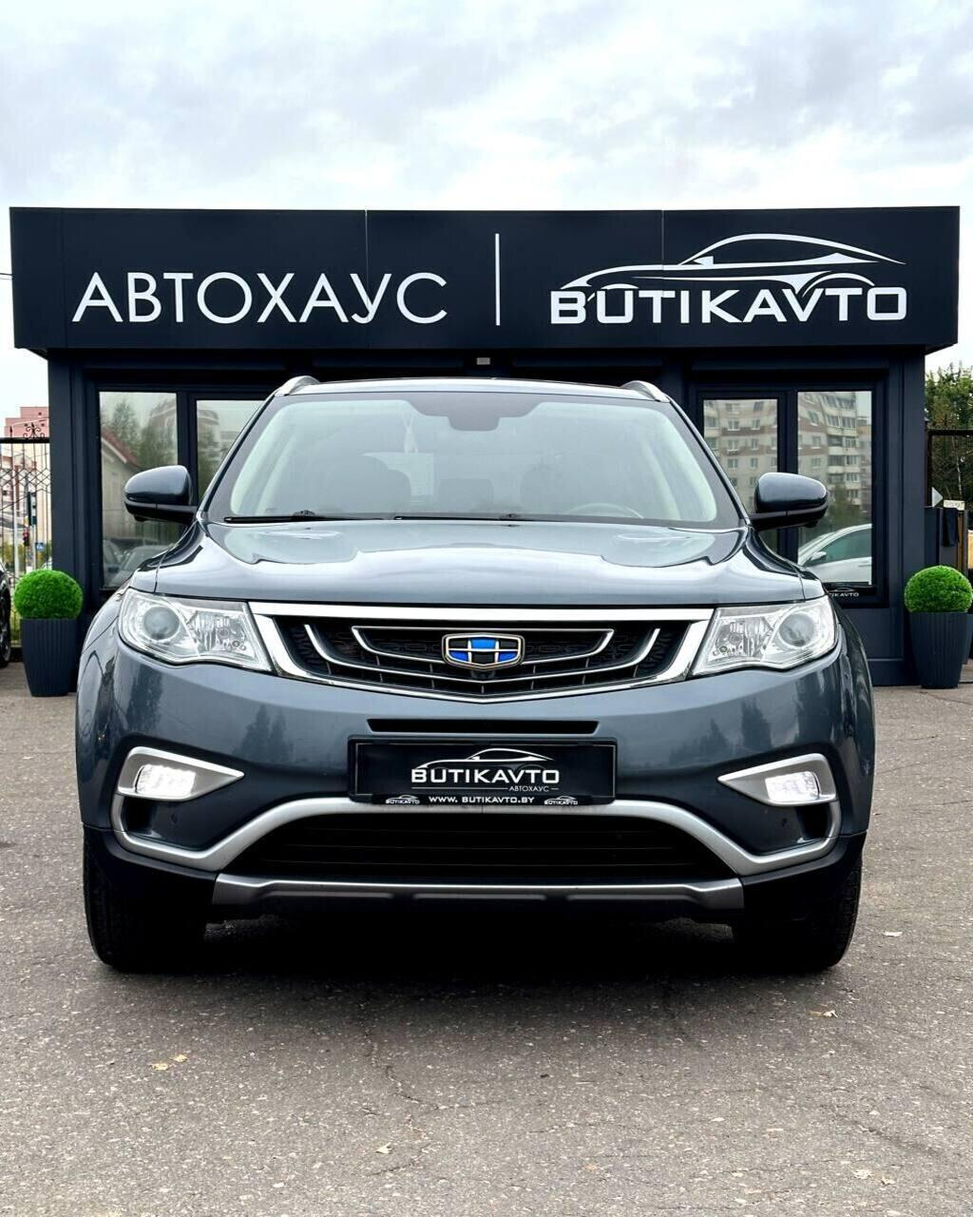Atlas_2016-2023: (67, 369, 877, 982)
